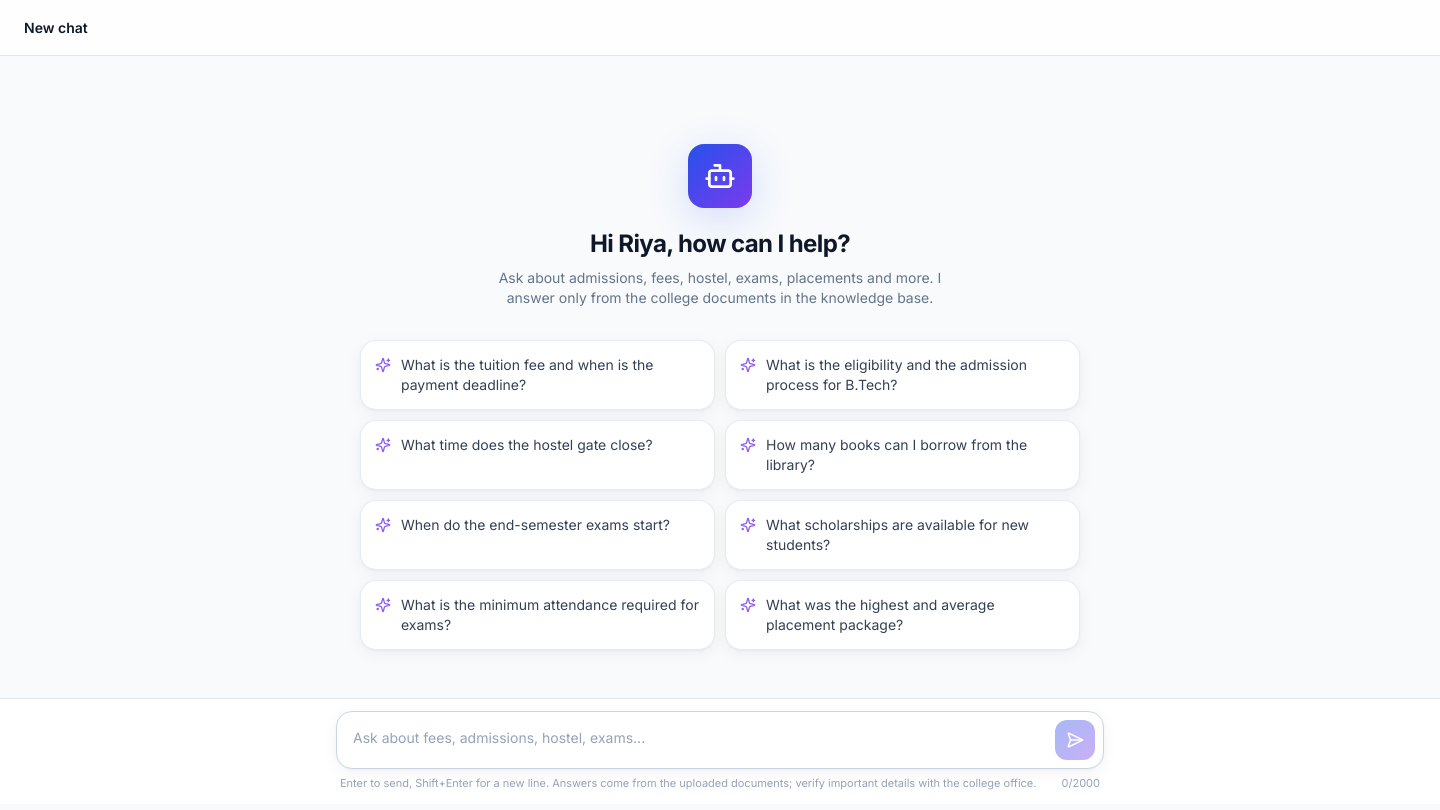
Test: Chat page › asks a question: creates the chat, shows markdown answer, sources and timestamp
Type "When does the gate close?" into the text box named "Ask a question about the college" at [696, 740], box [345,720,1047,760]
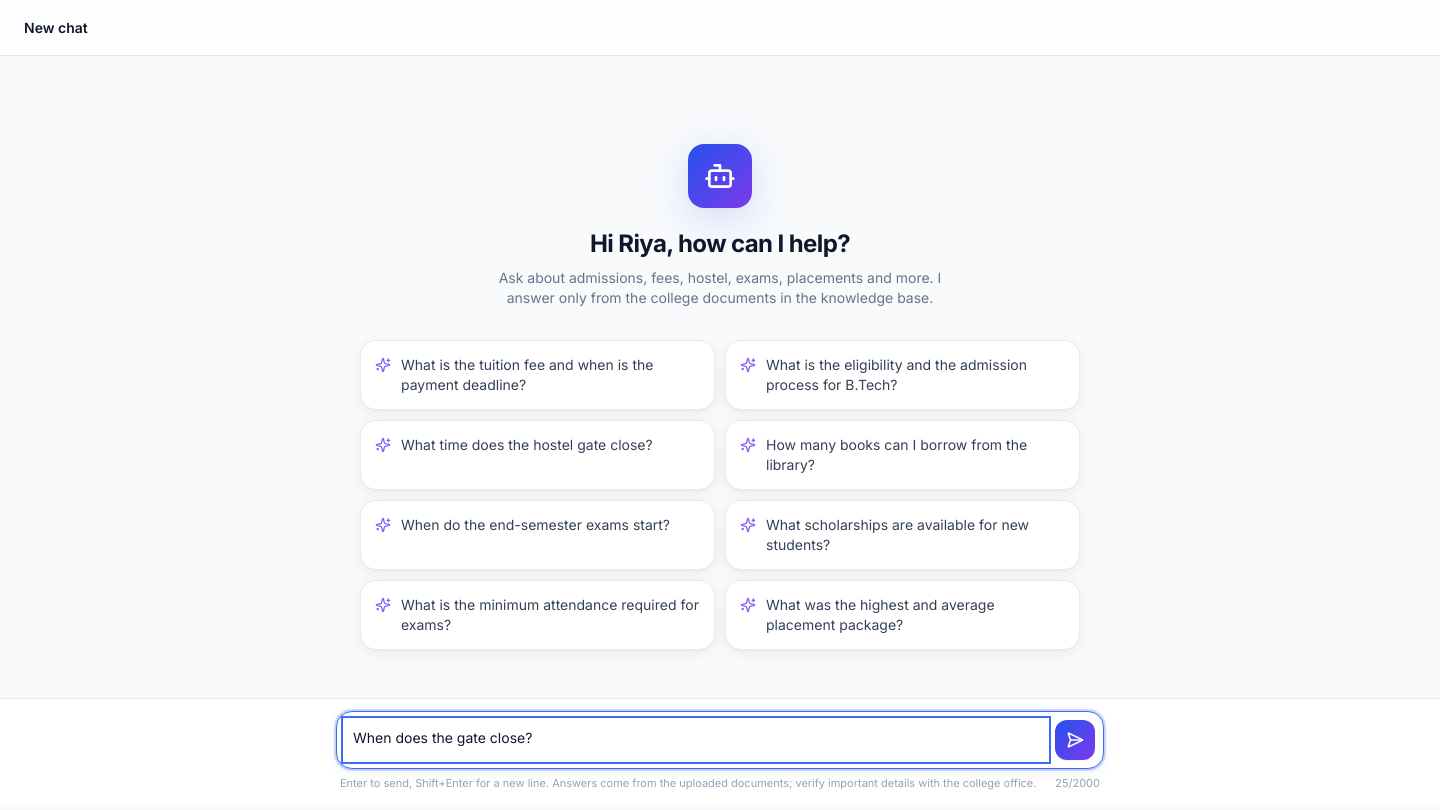
Click the button named "Send question" at [1075, 740], box [1055,720,1095,760]
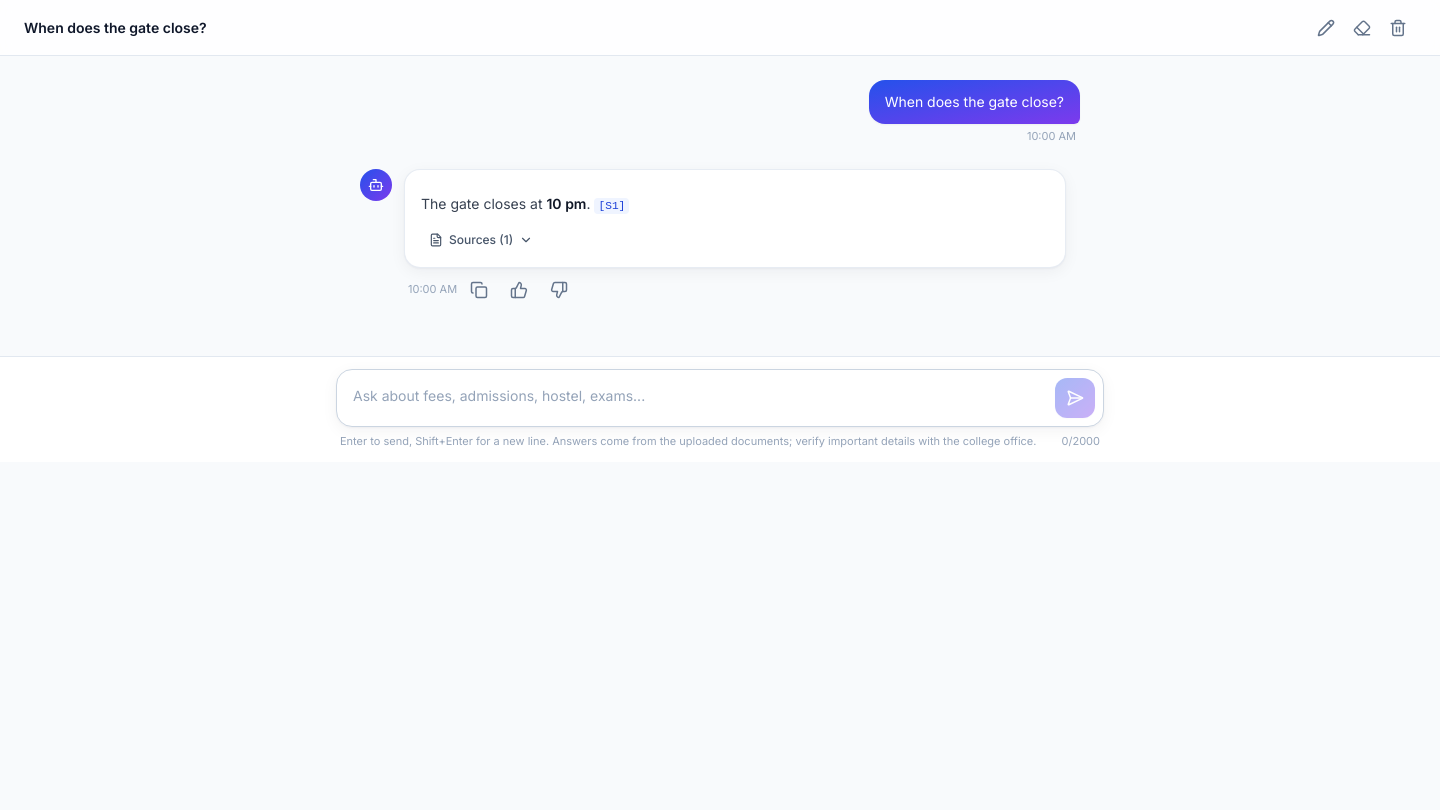
Check: the text "10 pm" is shown, box [546,194,586,212]
Check: the text "[S1]" is shown, box [594,198,629,214]
Click the button "Sources (1)" at [481, 240], box [421,228,541,252]
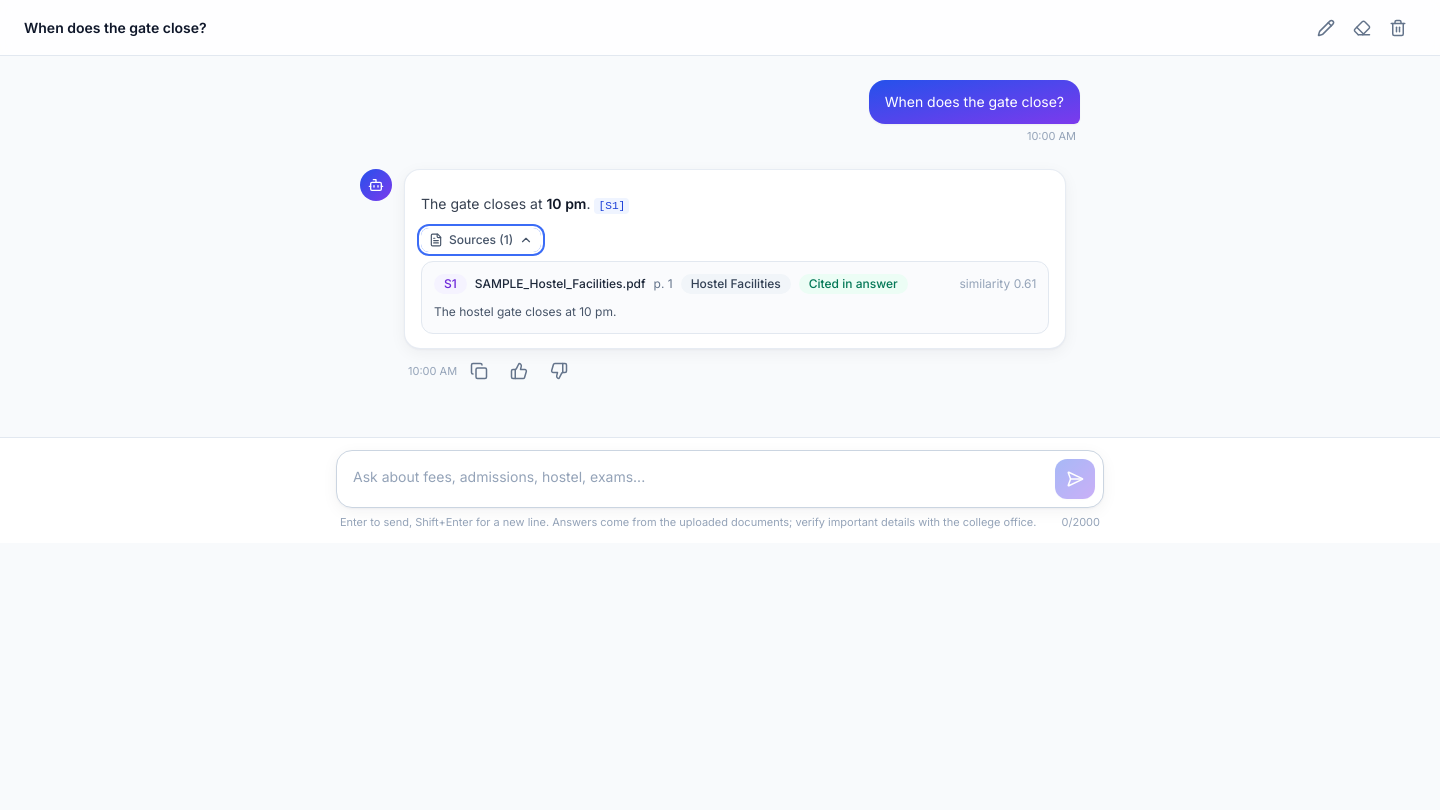
Check: the text "SAMPLE_Hostel_Facilities.pdf" is shown, box [475,276,646,292]
Check: the text "Cited in answer" is shown, box [799,274,908,294]
Check: the text "similarity 0.61" is shown, box [960,276,1036,292]
